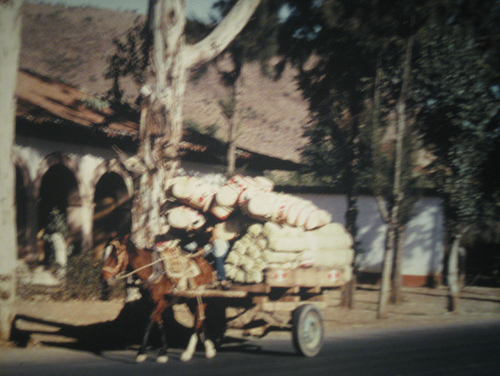horse: (97, 229, 219, 365)
